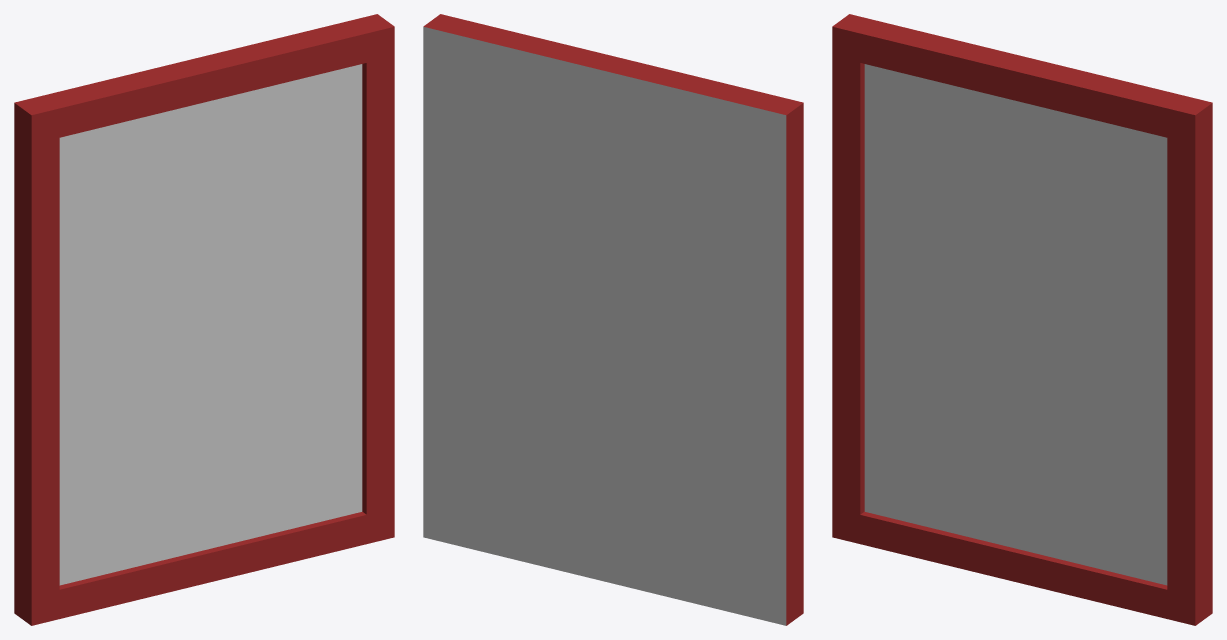
File: Asian_Prop_Building_Modular_Wall_Door_01.FBX
The picture shows the model from 3 angles, left to right: view 1: azimuth 30°, elevation 25°; view 2: azimuth 150°, elevation 25°; view 3: azimuth 330°, elevation 25°; orthographic projection.
Parts seen in each view (by area): view 1: Asian_Prop_Building_Modular_Wall_Door_01; view 2: Asian_Prop_Building_Modular_Wall_Door_01; view 3: Asian_Prop_Building_Modular_Wall_Door_01.
Boxes of the visible parts, x1=… form: Asian_Prop_Building_Modular_Wall_Door_01: x1=14, y1=14, x2=394, y2=625; Asian_Prop_Building_Modular_Wall_Door_01: x1=423, y1=14, x2=803, y2=625; Asian_Prop_Building_Modular_Wall_Door_01: x1=832, y1=14, x2=1212, y2=625.
Size of the model in its own units: 1999 by 2685 by 165.
